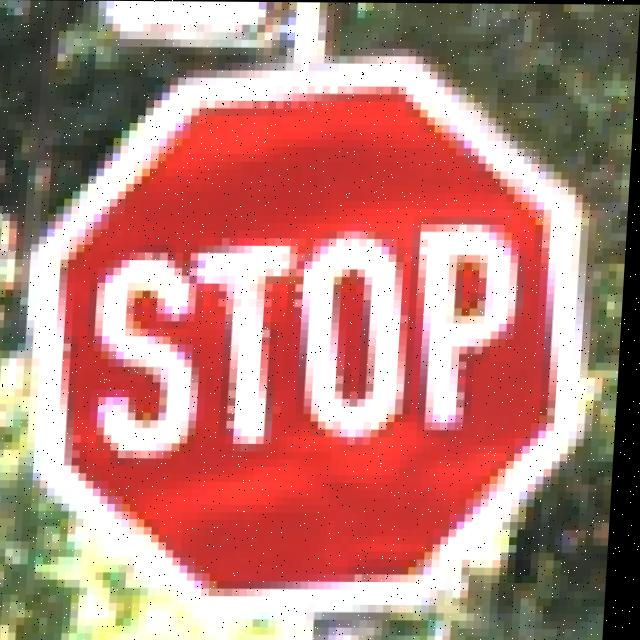stop: (15, 69, 583, 570)
